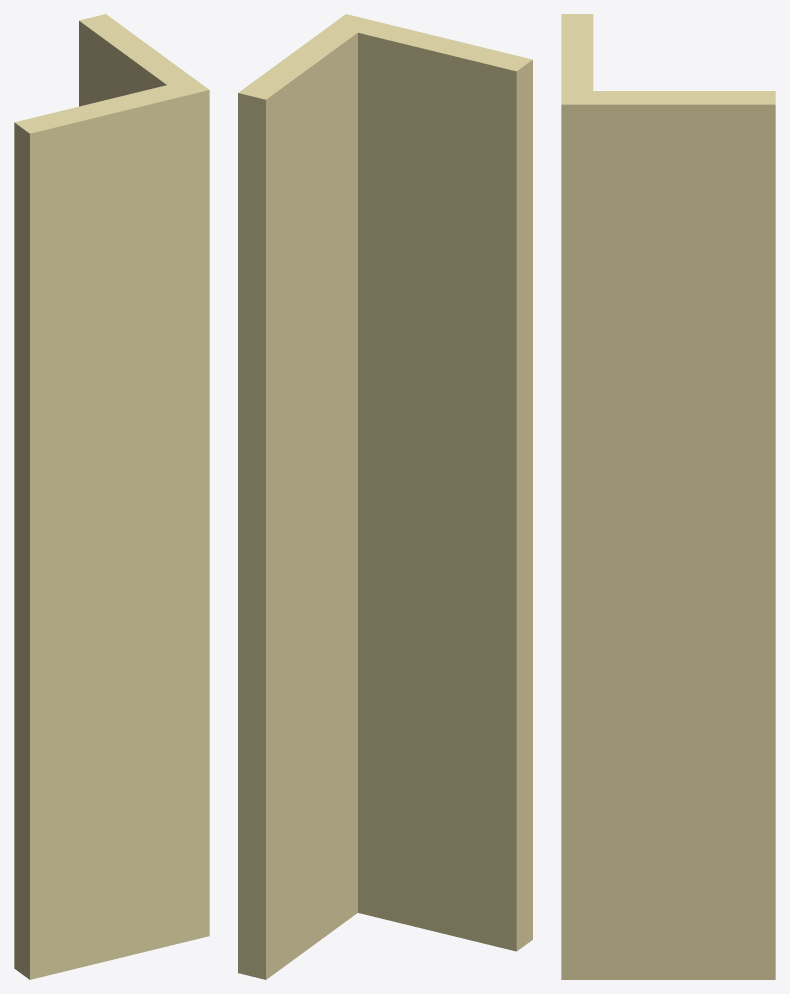
File: Body&Mind_wallcorner.fbx
The picture shows the model from 3 angles, left to right: view 1: azimuth 30°, elevation 25°; view 2: azimuth 150°, elevation 25°; view 3: azimuth 270°, elevation 25°; orthographic projection. The views are drawn at different scales.
Visible parts, largest first — view 1: Cube.001; view 2: Cube.001; view 3: Cube.001.
Boxes of the visible parts, <box> form: Cube.001: <box>14,14,209,979</box>; Cube.001: <box>238,14,532,979</box>; Cube.001: <box>561,14,775,979</box>.
Bounding box in the file's own units: 200 × 900 × 200.
1 material, 1 textured.
